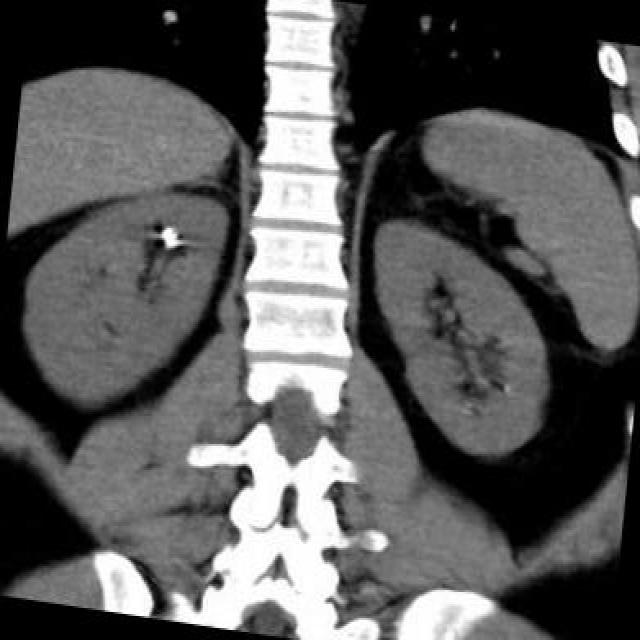Tas_Var: (158, 224, 179, 240), (165, 237, 182, 255), (497, 382, 515, 394)
